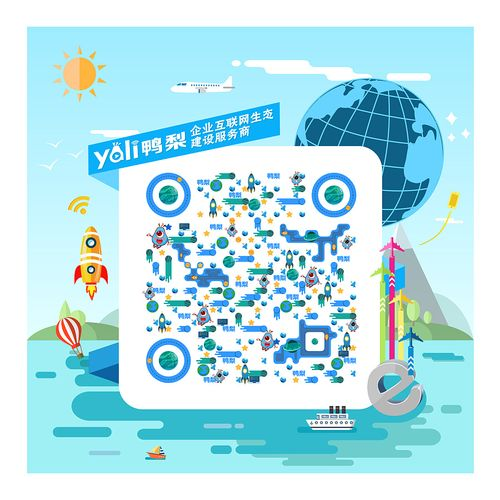QRCode: (138, 161, 366, 389)
